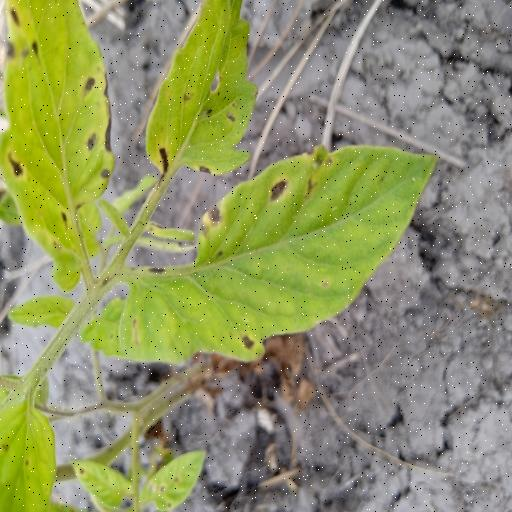Tomato_Brown_Spots: (115, 140, 440, 370), (0, 0, 115, 218), (143, 0, 263, 179)
